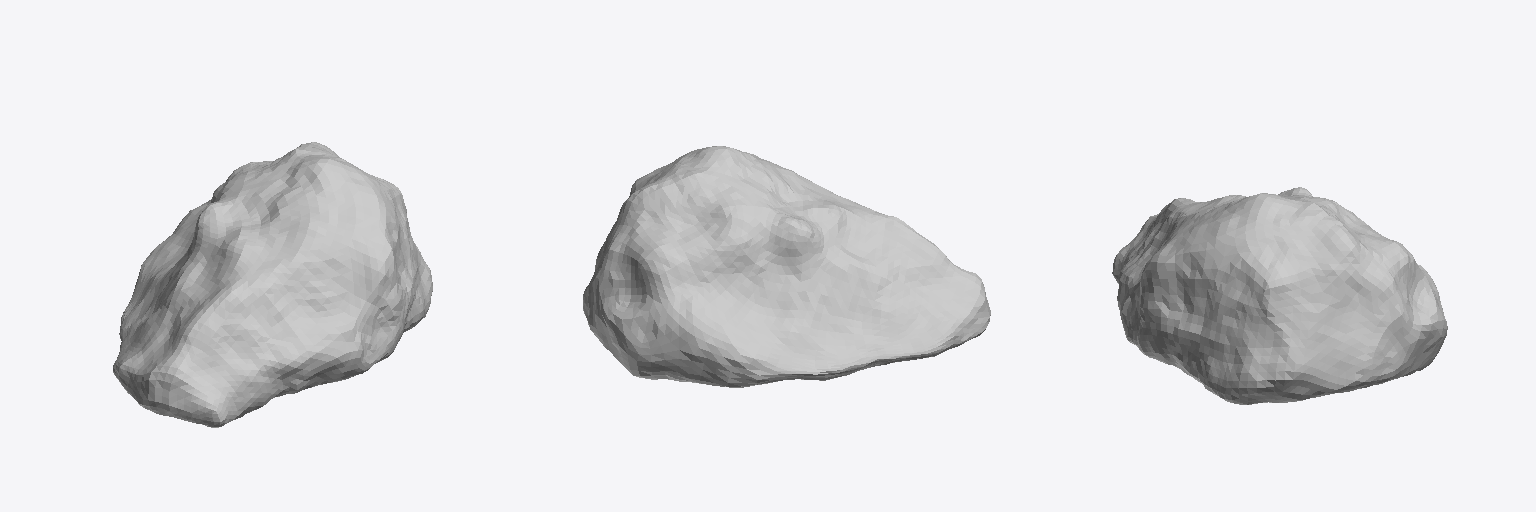
The model's file is rock3.obj.
3 renders of one model, left to right at view 1: azimuth 30°, elevation 25°; view 2: azimuth 150°, elevation 25°; view 3: azimuth 270°, elevation 25°, orthographic.
Visible parts, largest first — view 1: rock3:Rock_03 rock3:group2 rock3:polySurface1; view 2: rock3:Rock_03 rock3:group2 rock3:polySurface1; view 3: rock3:Rock_03 rock3:group2 rock3:polySurface1.
Boxes of the visible parts, x1=… form: rock3:Rock_03 rock3:group2 rock3:polySurface1: x1=113, y1=142, x2=432, y2=427; rock3:Rock_03 rock3:group2 rock3:polySurface1: x1=583, y1=146, x2=990, y2=387; rock3:Rock_03 rock3:group2 rock3:polySurface1: x1=1112, y1=187, x2=1447, y2=404.
Size of the model in its own units: 0.5352 by 0.2704 by 0.4679.